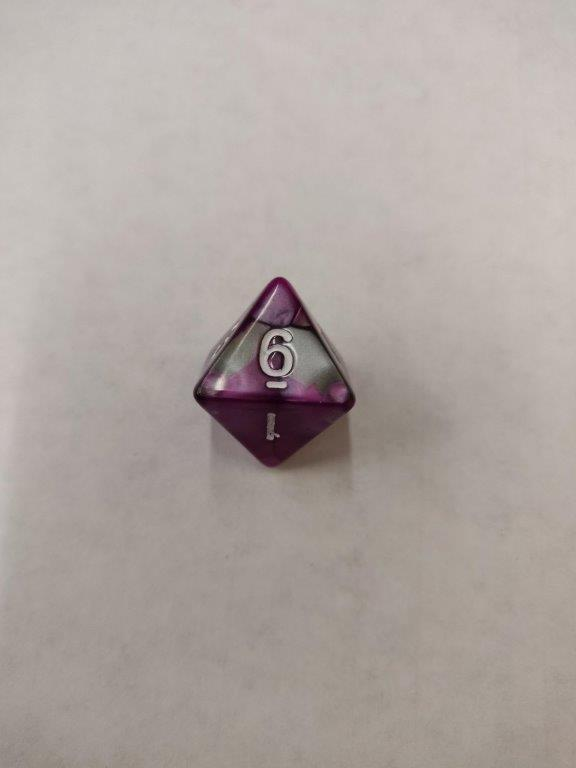d8-6: (192, 277, 355, 470)
